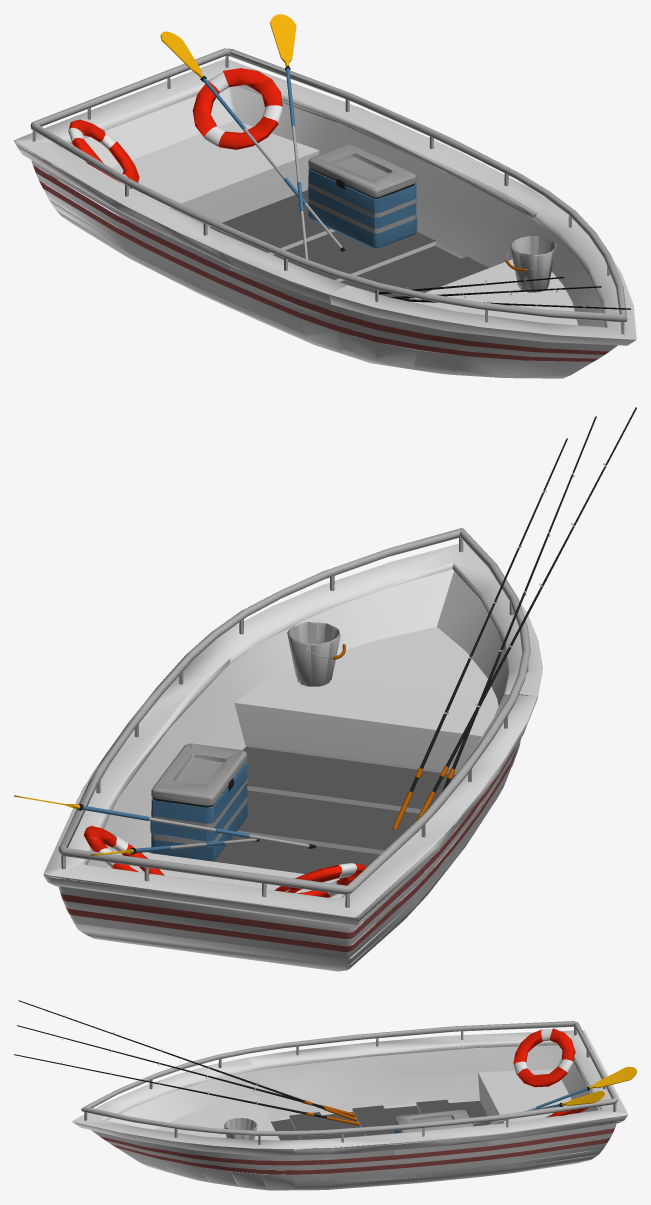
The model's file is boat_skiff.glb.
3 renders of one model, top to bottom at view 1: azimuth 30°, elevation 25°; view 2: azimuth 150°, elevation 25°; view 3: azimuth 270°, elevation 25°, orthographic. The views are drawn at different scales.
Visible parts, largest first — view 1: Boat_Boat White_0, Boat_Metal_0, Boat_Boat Gray_0, Boat_Boat Red_0, Box_Box Blue_0, Box_Box Grey_0, Floater_Floater Red_0, Bucket_Metal_0, Floater.001_Floater Red_0, Oar.001_Yellow_0, Floater_Floater White_0, Oar_Yellow_0; view 2: Boat_Boat White_0, Boat_Boat Gray_0, Boat_Metal_0, Boat_Boat Red_0, Box_Box Grey_0, Box_Box Blue_0, Bucket_Metal_0, Fishing Rod_Plastic_0, Fishing Rod.002_Plastic_0, Fishing Rod.001_Plastic_0, Floater.001_Floater Red_0, Floater_Floater Red_0; view 3: Boat_Boat White_0, Boat_Metal_0, Boat_Boat Red_0, Boat_Boat Gray_0, Floater.001_Floater Red_0, Box_Box Grey_0, Fishing Rod_Plastic_0, Fishing Rod.002_Plastic_0, Fishing Rod.001_Plastic_0, Bucket_Metal_0, Oar_Yellow_0, Floater.001_Floater White_0 (+1 smaller).
Boxes of the visible parts, x1=… form: Boat_Boat White_0: x1=14, y1=59, x2=636, y2=378; Boat_Metal_0: x1=30, y1=48, x2=627, y2=334; Boat_Boat Gray_0: x1=210, y1=190, x2=488, y2=298; Boat_Boat Red_0: x1=33, y1=159, x2=608, y2=361; Box_Box Blue_0: x1=307, y1=156, x2=417, y2=248; Box_Box Grey_0: x1=308, y1=144, x2=416, y2=233; Floater_Floater Red_0: x1=192, y1=68, x2=283, y2=149; Bucket_Metal_0: x1=506, y1=236, x2=556, y2=292; Floater.001_Floater Red_0: x1=68, y1=119, x2=139, y2=188; Oar.001_Yellow_0: x1=270, y1=14, x2=296, y2=67; Floater_Floater White_0: x1=204, y1=72, x2=283, y2=147; Oar_Yellow_0: x1=160, y1=31, x2=203, y2=77; Boat_Boat White_0: x1=43, y1=542, x2=542, y2=971; Boat_Boat Gray_0: x1=148, y1=746, x2=455, y2=878; Boat_Metal_0: x1=58, y1=528, x2=530, y2=907; Boat_Boat Red_0: x1=60, y1=694, x2=528, y2=951; Box_Box Grey_0: x1=151, y1=743, x2=247, y2=846; Box_Box Blue_0: x1=150, y1=755, x2=247, y2=861; Bucket_Metal_0: x1=287, y1=622, x2=340, y2=686; Fishing Rod_Plastic_0: x1=432, y1=407, x2=636, y2=792; Fishing Rod.002_Plastic_0: x1=409, y1=438, x2=567, y2=792; Fishing Rod.001_Plastic_0: x1=442, y1=416, x2=596, y2=791; Floater.001_Floater Red_0: x1=275, y1=863, x2=366, y2=897; Floater_Floater Red_0: x1=83, y1=825, x2=164, y2=875; Boat_Boat White_0: x1=71, y1=1030, x2=627, y2=1190; Boat_Metal_0: x1=81, y1=1021, x2=617, y2=1144; Boat_Boat Red_0: x1=100, y1=1118, x2=615, y2=1174; Boat_Boat Gray_0: x1=271, y1=1099, x2=491, y2=1140; Floater.001_Floater Red_0: x1=513, y1=1028, x2=575, y2=1087; Box_Box Grey_0: x1=394, y1=1110, x2=473, y2=1132; Fishing Rod_Plastic_0: x1=18, y1=1000, x2=324, y2=1109; Fishing Rod.002_Plastic_0: x1=14, y1=1054, x2=326, y2=1118; Fishing Rod.001_Plastic_0: x1=17, y1=1025, x2=323, y2=1106; Bucket_Metal_0: x1=223, y1=1118, x2=257, y2=1139; Oar_Yellow_0: x1=589, y1=1066, x2=636, y2=1089; Floater.001_Floater White_0: x1=513, y1=1029, x2=573, y2=1075.
Bounding box in the file's own units: 2.94 × 1.6 × 6.5.
